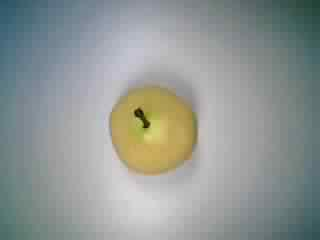pear: (100, 74, 205, 182)
